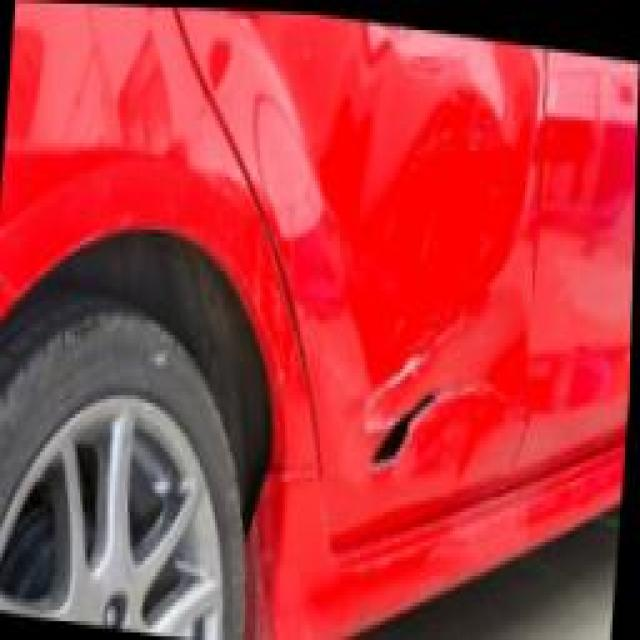Door: (313, 290, 510, 507)
